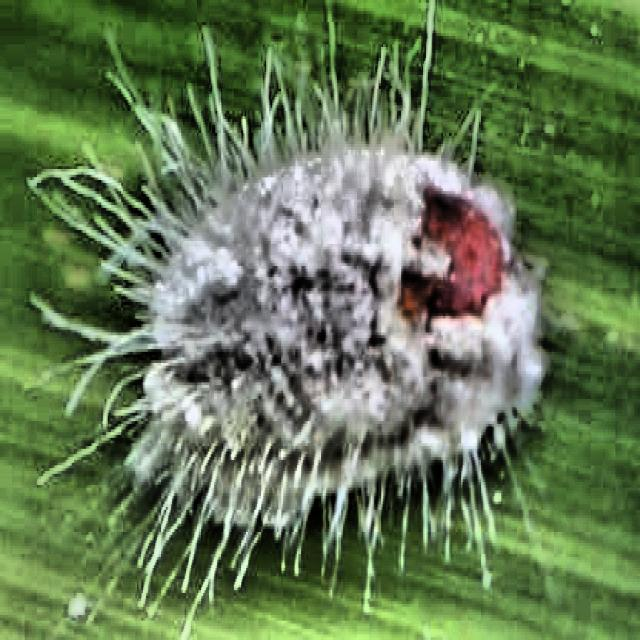Mealy-bug: (58, 11, 576, 628)
